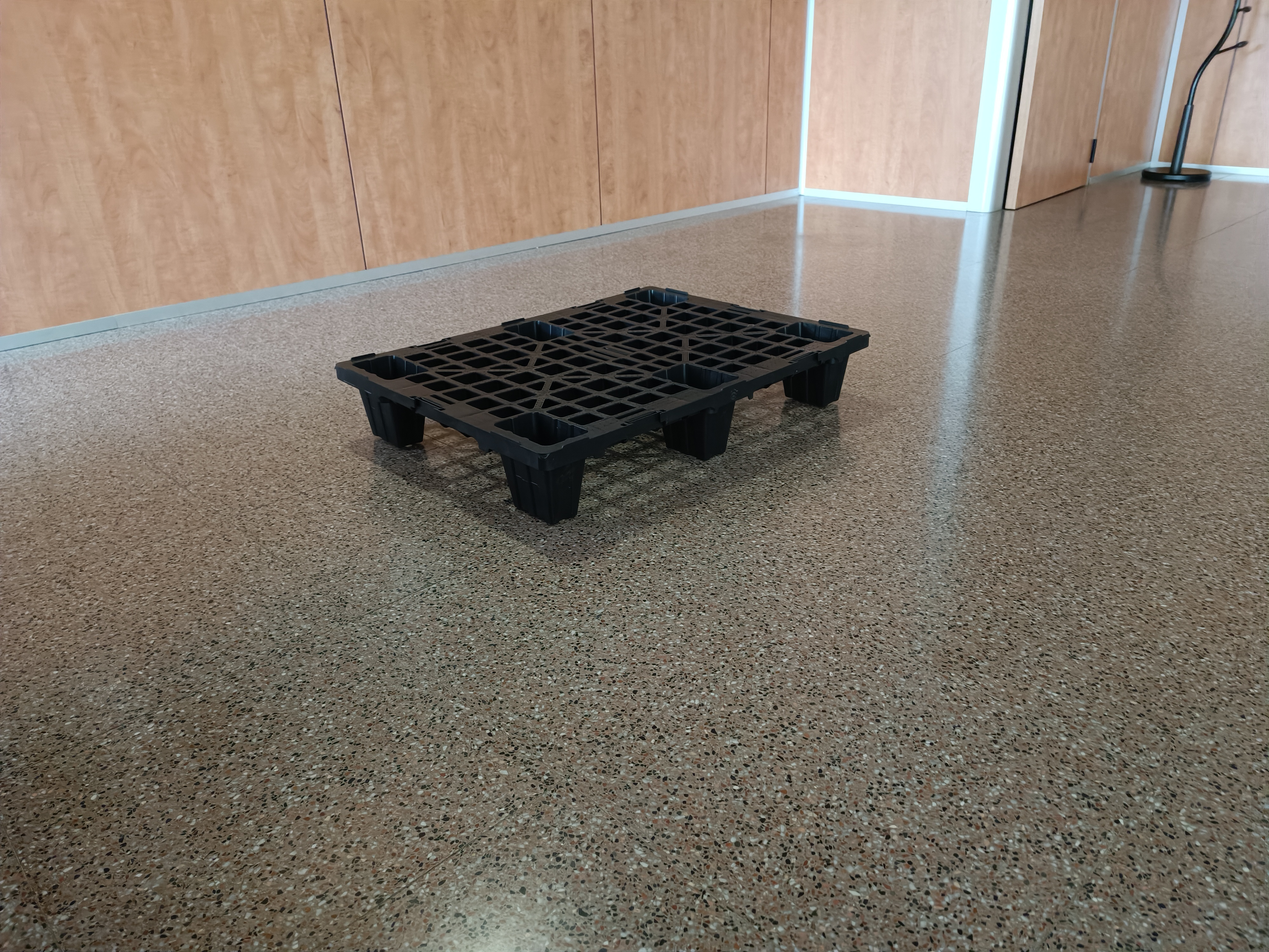block: (503, 449, 581, 524), (657, 407, 740, 466), (780, 346, 849, 407), (362, 388, 424, 452)
front: (541, 331, 864, 529)
hole pallet: (576, 417, 695, 506), (725, 360, 819, 445)
